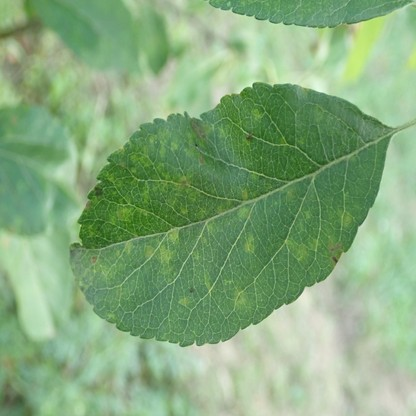scab: (73, 88, 355, 324)
